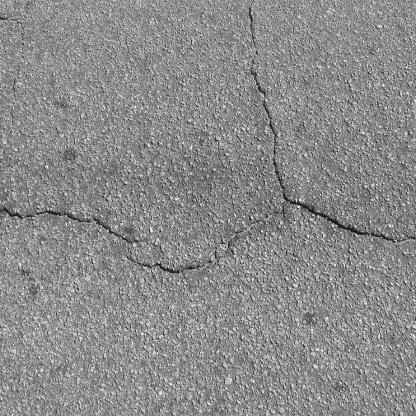Cracks: (0, 196, 285, 278), (248, 0, 295, 197), (289, 199, 416, 246)
